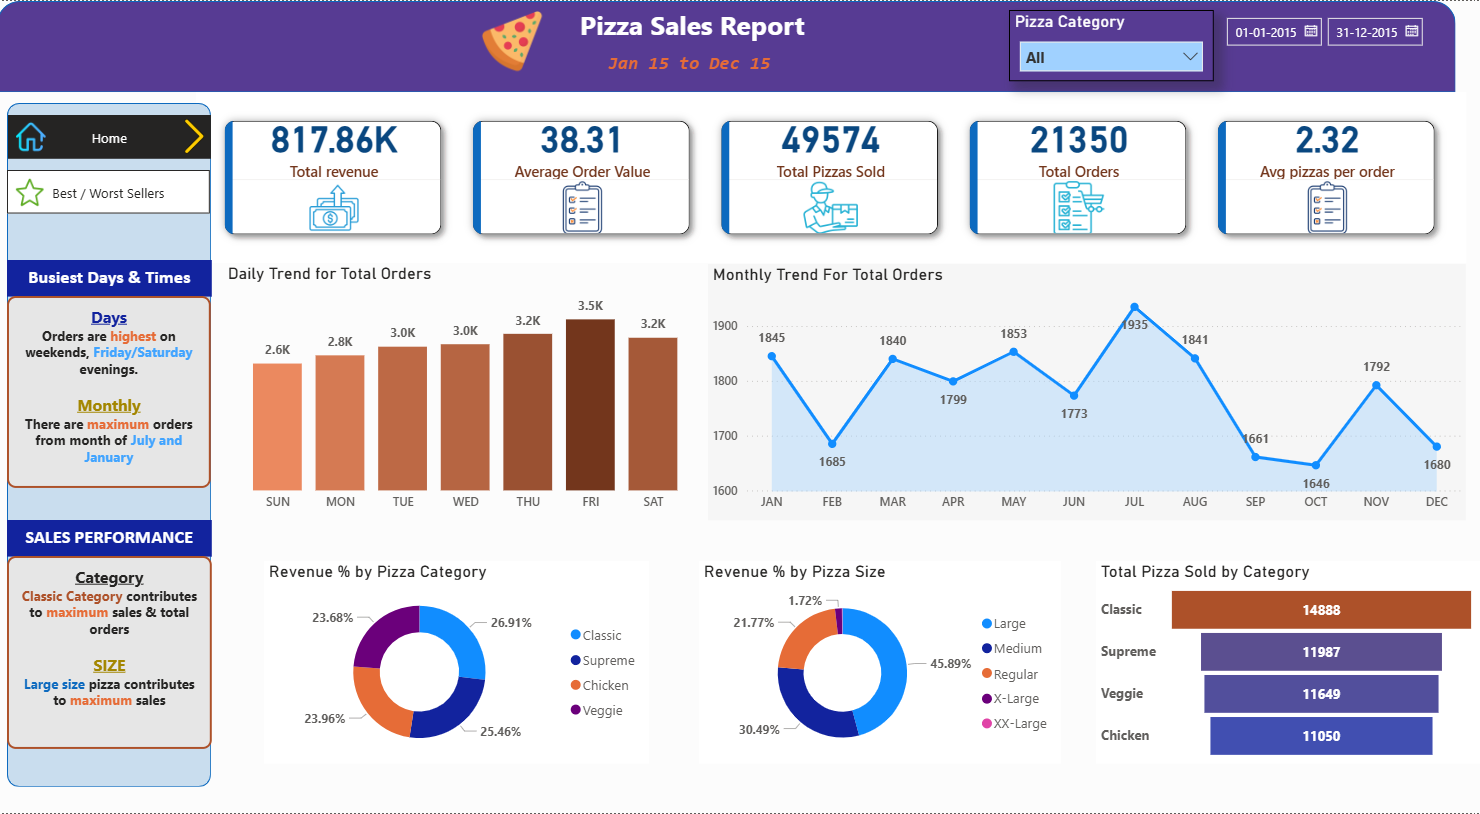

This screenshot's page, from the dashboard's own definition file:
{"tool":"powerbi","page":{"name":"Home","canvas":[1500,820],"ordinal":0},"visuals":[{"type":"cardVisual","fields":{"Data":["pizza_sales.Total revenue","pizza_sales.Average Order Value","pizza_sales.Total Pizzas Sold","pizza_sales.Total Orders","pizza_sales.Avg pizzas per order"]},"box":[201.2,92.4,1283.9,173.2],"z":0},{"type":"shape","box":[0,0,1474.5,92.4],"z":1000},{"type":"textbox","box":[584.2,0,252.2,46.2],"z":2000},{"type":"textbox","box":[612.5,46.5,185,40.4],"z":3000},{"type":"image","box":[481.3,9.2,79.3,62.7],"z":4000},{"type":"columnChart","title":"Daily Trend for Total Orders","fields":{"Category":["pizza_sales.Order Day"],"Y":["pizza_sales.Total Orders"]},"box":[228.1,264.7,490.8,259.9],"z":5000},{"type":"areaChart","title":"Monthly Trend For Total Orders","fields":{"Category":["pizza_sales.Order Month"],"Y":["pizza_sales.Total Orders"]},"box":[718.9,265.6,766.1,258.9],"z":6000},{"type":"donutChart","title":"Revenue % by Pizza Category","fields":{"Category":["pizza_sales.pizza_category"],"Y":["pizza_sales.Total revenue"]},"box":[269.9,566,389.2,205.2],"z":7000},{"type":"shape","box":[10.1,103.1,206.2,691.4],"z":8000},{"type":"donutChart","title":"Revenue % by Pizza Size","fields":{"Category":["pizza_sales.pizza_size"],"Y":["pizza_sales.Total revenue"]},"box":[709.6,566,365.9,205.2],"z":9000},{"type":"funnel","title":"Total Pizza Sold by Category","fields":{"Category":["pizza_sales.pizza_category"],"Y":["pizza_sales.Total Pizzas Sold"]},"box":[1110.8,566,389.2,205.2],"z":10000},{"type":"textbox","box":[10.6,261.8,206.9,36.6],"z":11000},{"type":"textbox","box":[10.6,298.4,206,194.4],"z":12000},{"type":"textbox","box":[10.6,524.5,206.9,36.6],"z":13000},{"type":"textbox","box":[10.6,561.1,206.9,195.4],"z":14000},{"type":"slicer","title":"Pizza Category","fields":{"Values":["pizza_sales.pizza_category"]},"box":[1022.4,9.1,207.4,71.8],"z":15000},{"type":"slicer","fields":{"Values":["pizza_sales.order_date"]},"box":[1229.9,6.8,225.7,71.8],"z":16000},{"type":"pageNavigator","box":[11.5,115.5,206,44.3],"z":17000},{"type":"pageNavigator","box":[10.6,171.3,206,44.3],"z":18000},{"type":"image","box":[7.7,179,50,28.9],"z":19000},{"type":"image","box":[181.9,119.3,34.6,35.6],"z":20000},{"type":"image","box":[19.2,117.4,29.8,40.4],"z":21000}]}

Visuals, with their boxes in screenshot pixels (x1, y1, x2, y2), scaled from the page's 1500x820 canvas onto the 1480x814 screenshot:
cardVisual - pizza_sales.Total revenue x pizza_sales.Average Order Value: <box>199,92,1465,264</box>
shape: <box>0,0,1455,92</box>
textbox: <box>576,0,825,46</box>
textbox: <box>604,46,787,86</box>
image: <box>475,9,553,71</box>
"Daily Trend for Total Orders" columnChart: <box>225,263,709,521</box>
"Monthly Trend For Total Orders" areaChart: <box>709,264,1465,521</box>
"Revenue % by Pizza Category" donutChart: <box>266,562,650,766</box>
shape: <box>10,102,213,789</box>
"Revenue % by Pizza Size" donutChart: <box>700,562,1061,766</box>
"Total Pizza Sold by Category" funnel: <box>1096,562,1479,766</box>
textbox: <box>10,260,215,296</box>
textbox: <box>10,296,214,489</box>
textbox: <box>10,521,215,557</box>
textbox: <box>10,557,215,751</box>
"Pizza Category" slicer: <box>1009,9,1213,80</box>
slicer - pizza_sales.order_date: <box>1214,7,1436,78</box>
pageNavigator: <box>11,115,215,159</box>
pageNavigator: <box>10,170,214,214</box>
image: <box>8,178,57,206</box>
image: <box>179,118,214,154</box>
image: <box>19,117,48,157</box>
